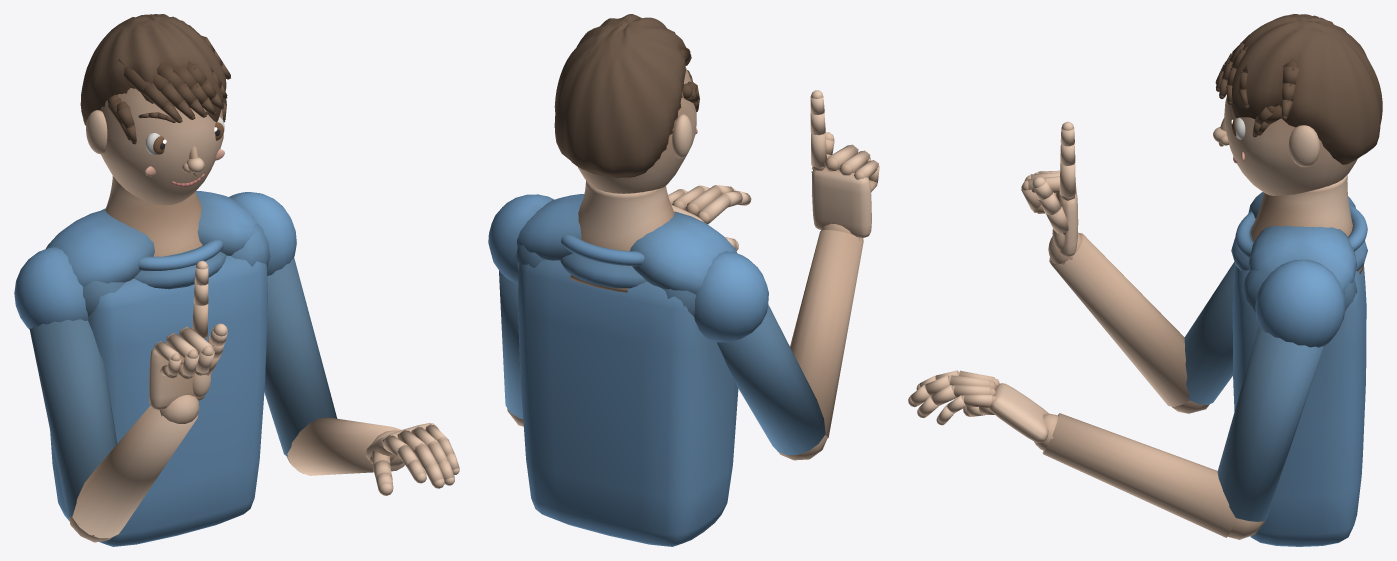
The picture shows the model from 3 angles, left to right: view 1: azimuth 30°, elevation 25°; view 2: azimuth 150°, elevation 25°; view 3: azimuth 270°, elevation 25°; orthographic projection.
Visible parts, largest first — view 1: LSC_Body; view 2: LSC_Body; view 3: LSC_Body.
Part boxes in pixels (x1,y1,x2,y2): LSC_Body: [14, 14, 459, 546]; LSC_Body: [488, 14, 879, 546]; LSC_Body: [908, 14, 1382, 546].
Size of the model in its own units: 0.4304 by 0.713 by 0.6104.
